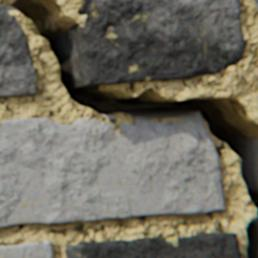brick: (0, 111, 224, 226), (70, 0, 244, 85), (65, 231, 239, 257), (0, 8, 35, 96), (0, 239, 51, 257), (252, 0, 257, 15), (101, 115, 114, 118)
crack: (0, 0, 257, 257)
